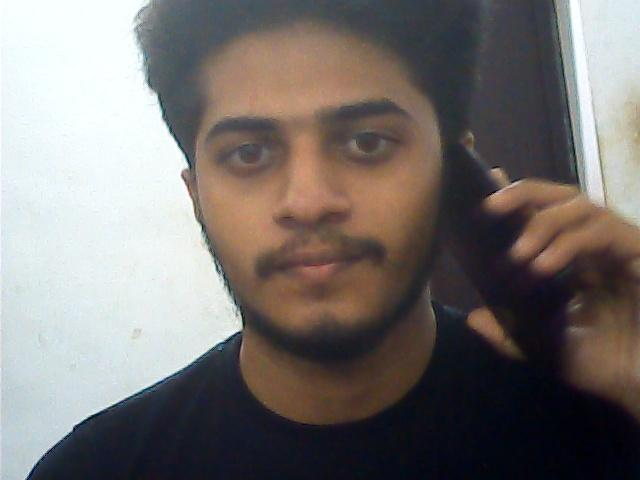PhoneUse: (442, 141, 582, 375)
SafeDriving: (323, 112, 412, 168), (208, 124, 293, 180)
